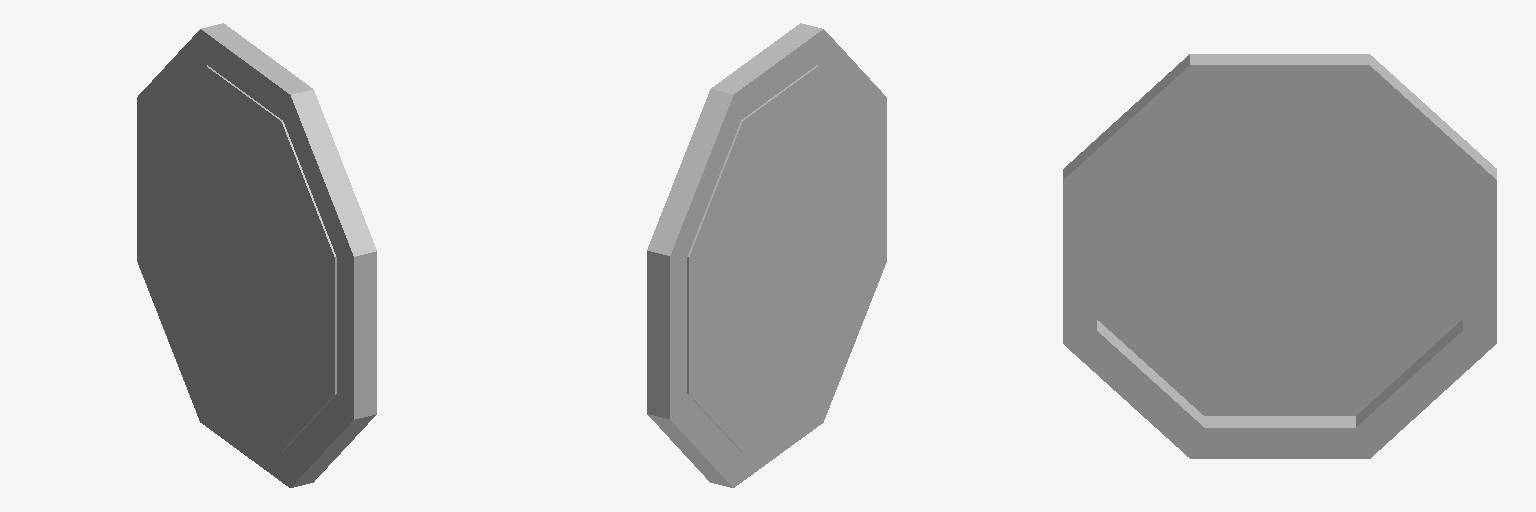
Rendered from sign.obj.
3 renders of one model, left to right at view 1: azimuth 30°, elevation 25°; view 2: azimuth 150°, elevation 25°; view 3: azimuth 270°, elevation 25°, orthographic.
Visible parts, largest first — view 1: sign; view 2: sign; view 3: sign.
Part boxes in pixels (left/top/right/bottom): sign: left=137, top=23, right=376, bottom=487; sign: left=647, top=23, right=886, bottom=487; sign: left=1063, top=54, right=1496, bottom=458.
Bounding box in the file's own units: 0.0367 × 0.5471 × 0.5471.